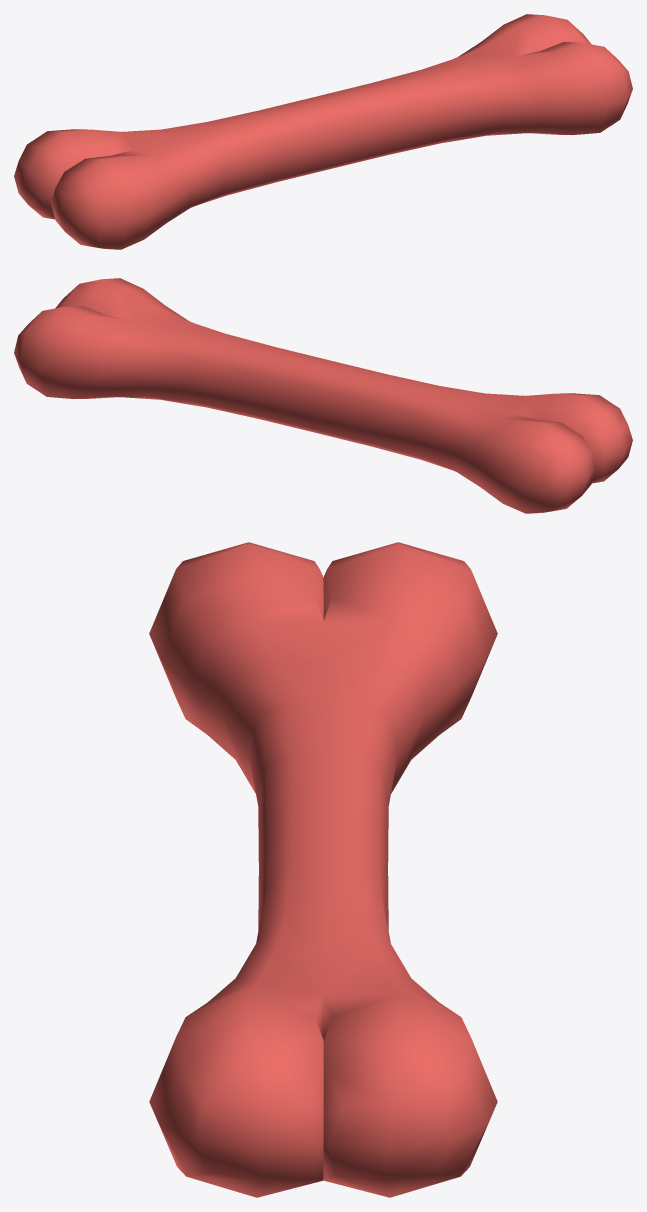
File: Jouet_pour_chien.fbx
The picture shows the model from 3 angles, top to bottom: view 1: azimuth 30°, elevation 25°; view 2: azimuth 150°, elevation 25°; view 3: azimuth 270°, elevation 25°; orthographic projection. The views are drawn at different scales.
Visible parts, largest first — view 1: Cube; view 2: Cube; view 3: Cube.
Part boxes in pixels (<box>): Cube: <box>14,14,632,249</box>; Cube: <box>14,278,632,513</box>; Cube: <box>149,542,497,1197</box>.
Size of the model in its own units: 1883 by 286 by 503.
